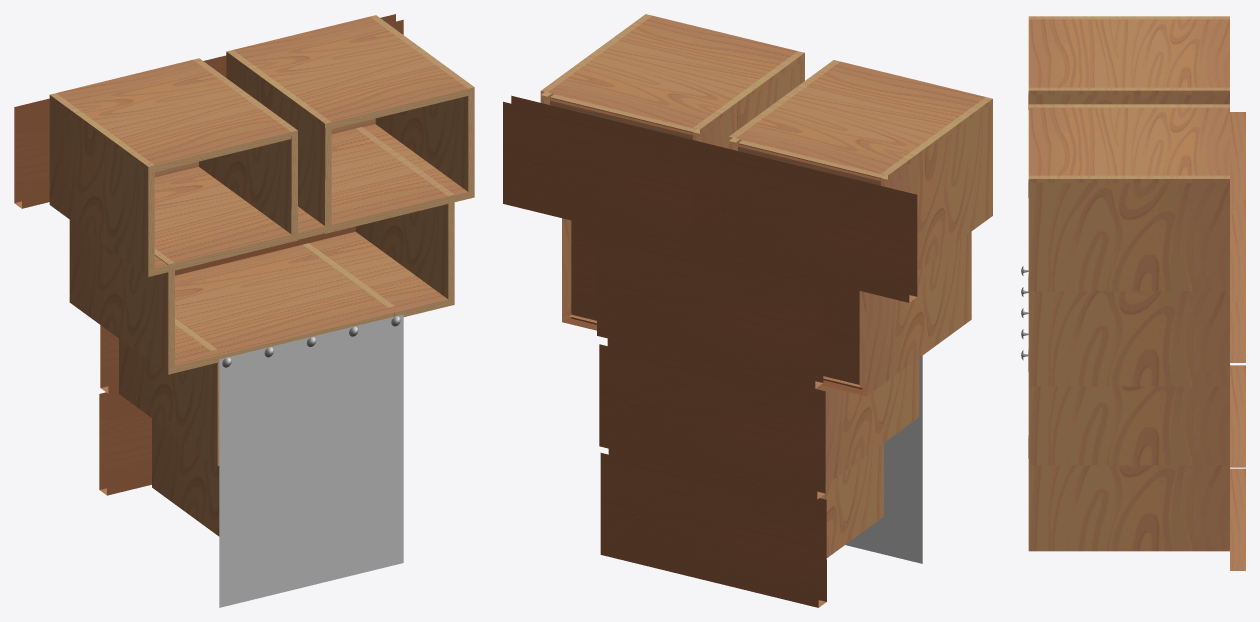
The model's file is layout_poster_upsideDownTriangle_split_up.fbx.
3 renders of one model, left to right at view 1: azimuth 30°, elevation 25°; view 2: azimuth 150°, elevation 25°; view 3: azimuth 270°, elevation 25°, orthographic. The views are drawn at different scales.
Parts seen in each view (by area): view 1: Mesh-Poster-Large01, Shelf-BM-00 1, Shelf-TM-00 1, Shelf-TM-00 3, Shelf-TM-00 4, Shelf-CL-01 3, Shelf-CL-01 1, Shelf-CL-01, Shelf-CR-01 4, Shelf-CR-01 1, Shelf-CR-01 3, Shelf-CL-01 4 (+15 smaller); view 2: Shelf-Back-00 (1) 3, Shelf-Back-00 (1), Shelf-Back-00 (1) 1, Shelf-Back-00 (1) 2, Shelf-Back-00 (1) 4, Shelf-TM-00 3, Shelf-TM-00 4, Shelf-CL-01 1, Shelf-CL-01 3, Shelf-Back-00 1, Mesh-Poster-Large01, Shelf-CL-01 (+11 smaller); view 3: Shelf-CR-01 4, Shelf-CR-01 1, Shelf-CR-01 2, Shelf-CR-01, Shelf-TM-00 3, Shelf-TM-00 4, Shelf-CR-01 3, Shelf-Back-00 (1), Shelf-Back-00 (1) 2, Shelf-CR-00, Shelf-CR-00 1, Shelf-CR-00 2 (+8 smaller).
Boxes of the visible parts, x1,y1,x2,y2 form: Mesh-Poster-Large01: (219,314,403,607); Shelf-BM-00 1: (175,231,448,372); Shelf-TM-00 1: (154,128,448,269); Shelf-TM-00 3: (56,59,291,172); Shelf-TM-00 4: (233,16,468,128); Shelf-CL-01 3: (49,99,154,269); Shelf-CL-01 1: (69,220,174,367); Shelf-CL-01: (119,318,223,458); Shelf-CR-01 4: (375,91,474,191); Shelf-CR-01 1: (355,199,454,299); Shelf-CR-01 3: (199,134,297,234); Shelf-CL-01 4: (226,55,331,226); Shelf-Back-00 (1) 3: (691,142,917,302); Shelf-Back-00 (1): (599,338,825,499); Shelf-Back-00 (1) 1: (597,229,823,388); Shelf-Back-00 (1) 2: (600,449,826,607); Shelf-Back-00 (1) 4: (503,95,729,255); Shelf-TM-00 3: (736,61,985,180); Shelf-TM-00 4: (548,15,797,135); Shelf-CL-01 1: (859,231,971,388); Shelf-CL-01 3: (881,103,992,263); Shelf-Back-00 1: (571,220,862,389); Mesh-Poster-Large01: (845,356,922,563); Shelf-CL-01: (816,358,919,477); Shelf-CR-01 4: (1028,180,1229,284); Shelf-CR-01 1: (1028,275,1229,378); Shelf-CR-01 2: (1028,435,1229,544); Shelf-CR-01: (1028,349,1229,457); Shelf-TM-00 3: (1028,19,1229,87); Shelf-TM-00 4: (1028,107,1229,175); Shelf-CR-01 3: (1028,92,1229,109); Shelf-Back-00 (1): (1230,365,1245,467); Shelf-Back-00 (1) 2: (1230,468,1245,570); Shelf-CR-00: (1028,458,1229,465); Shelf-CR-00 1: (1028,379,1229,386); Shelf-CR-00 2: (1028,544,1229,551).
Bounding box in the file's own units: 179 × 204 × 89.24.
